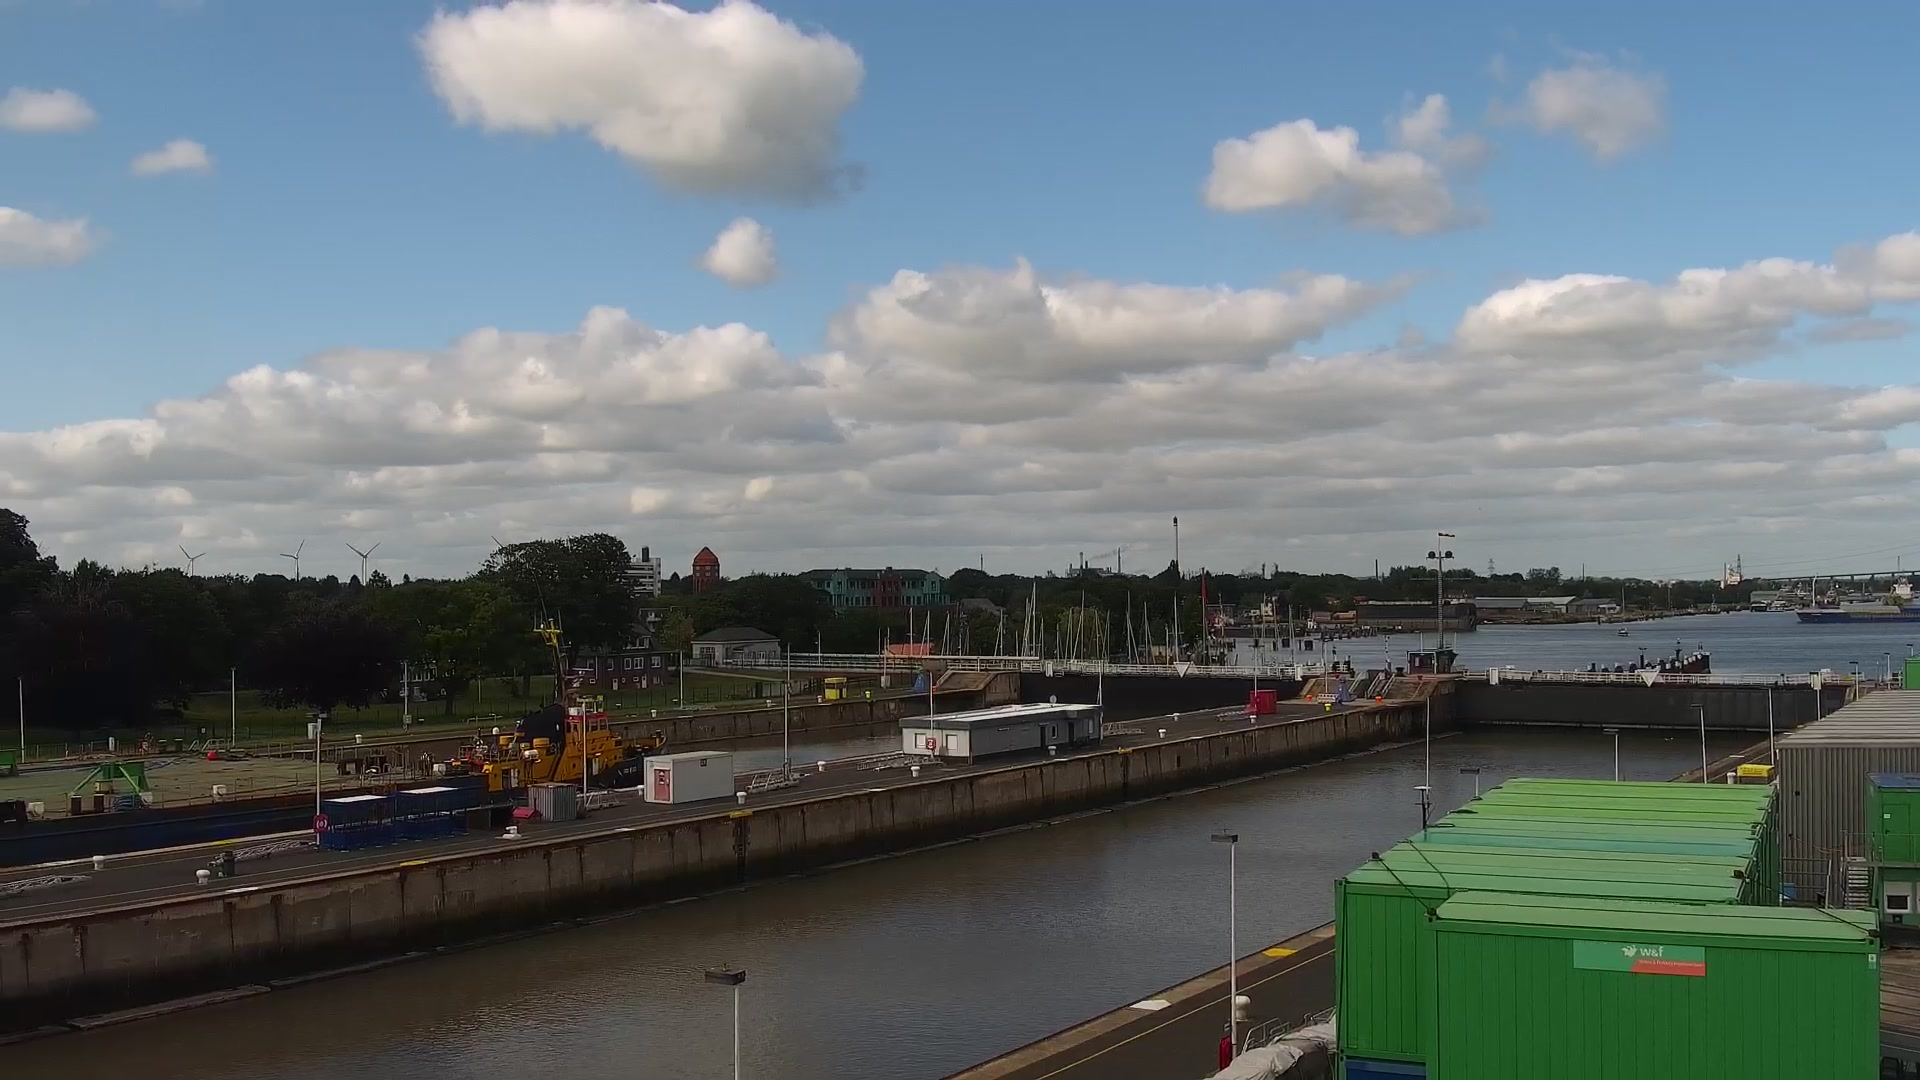human: (1349, 667, 1355, 679), (1331, 663, 1337, 672)
sea: (1, 607, 668, 869), (1793, 576, 1920, 624), (1707, 593, 1721, 614), (1616, 625, 1629, 636)
